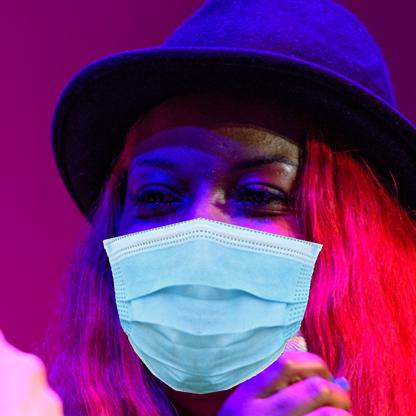mask: (103, 221, 324, 397)
